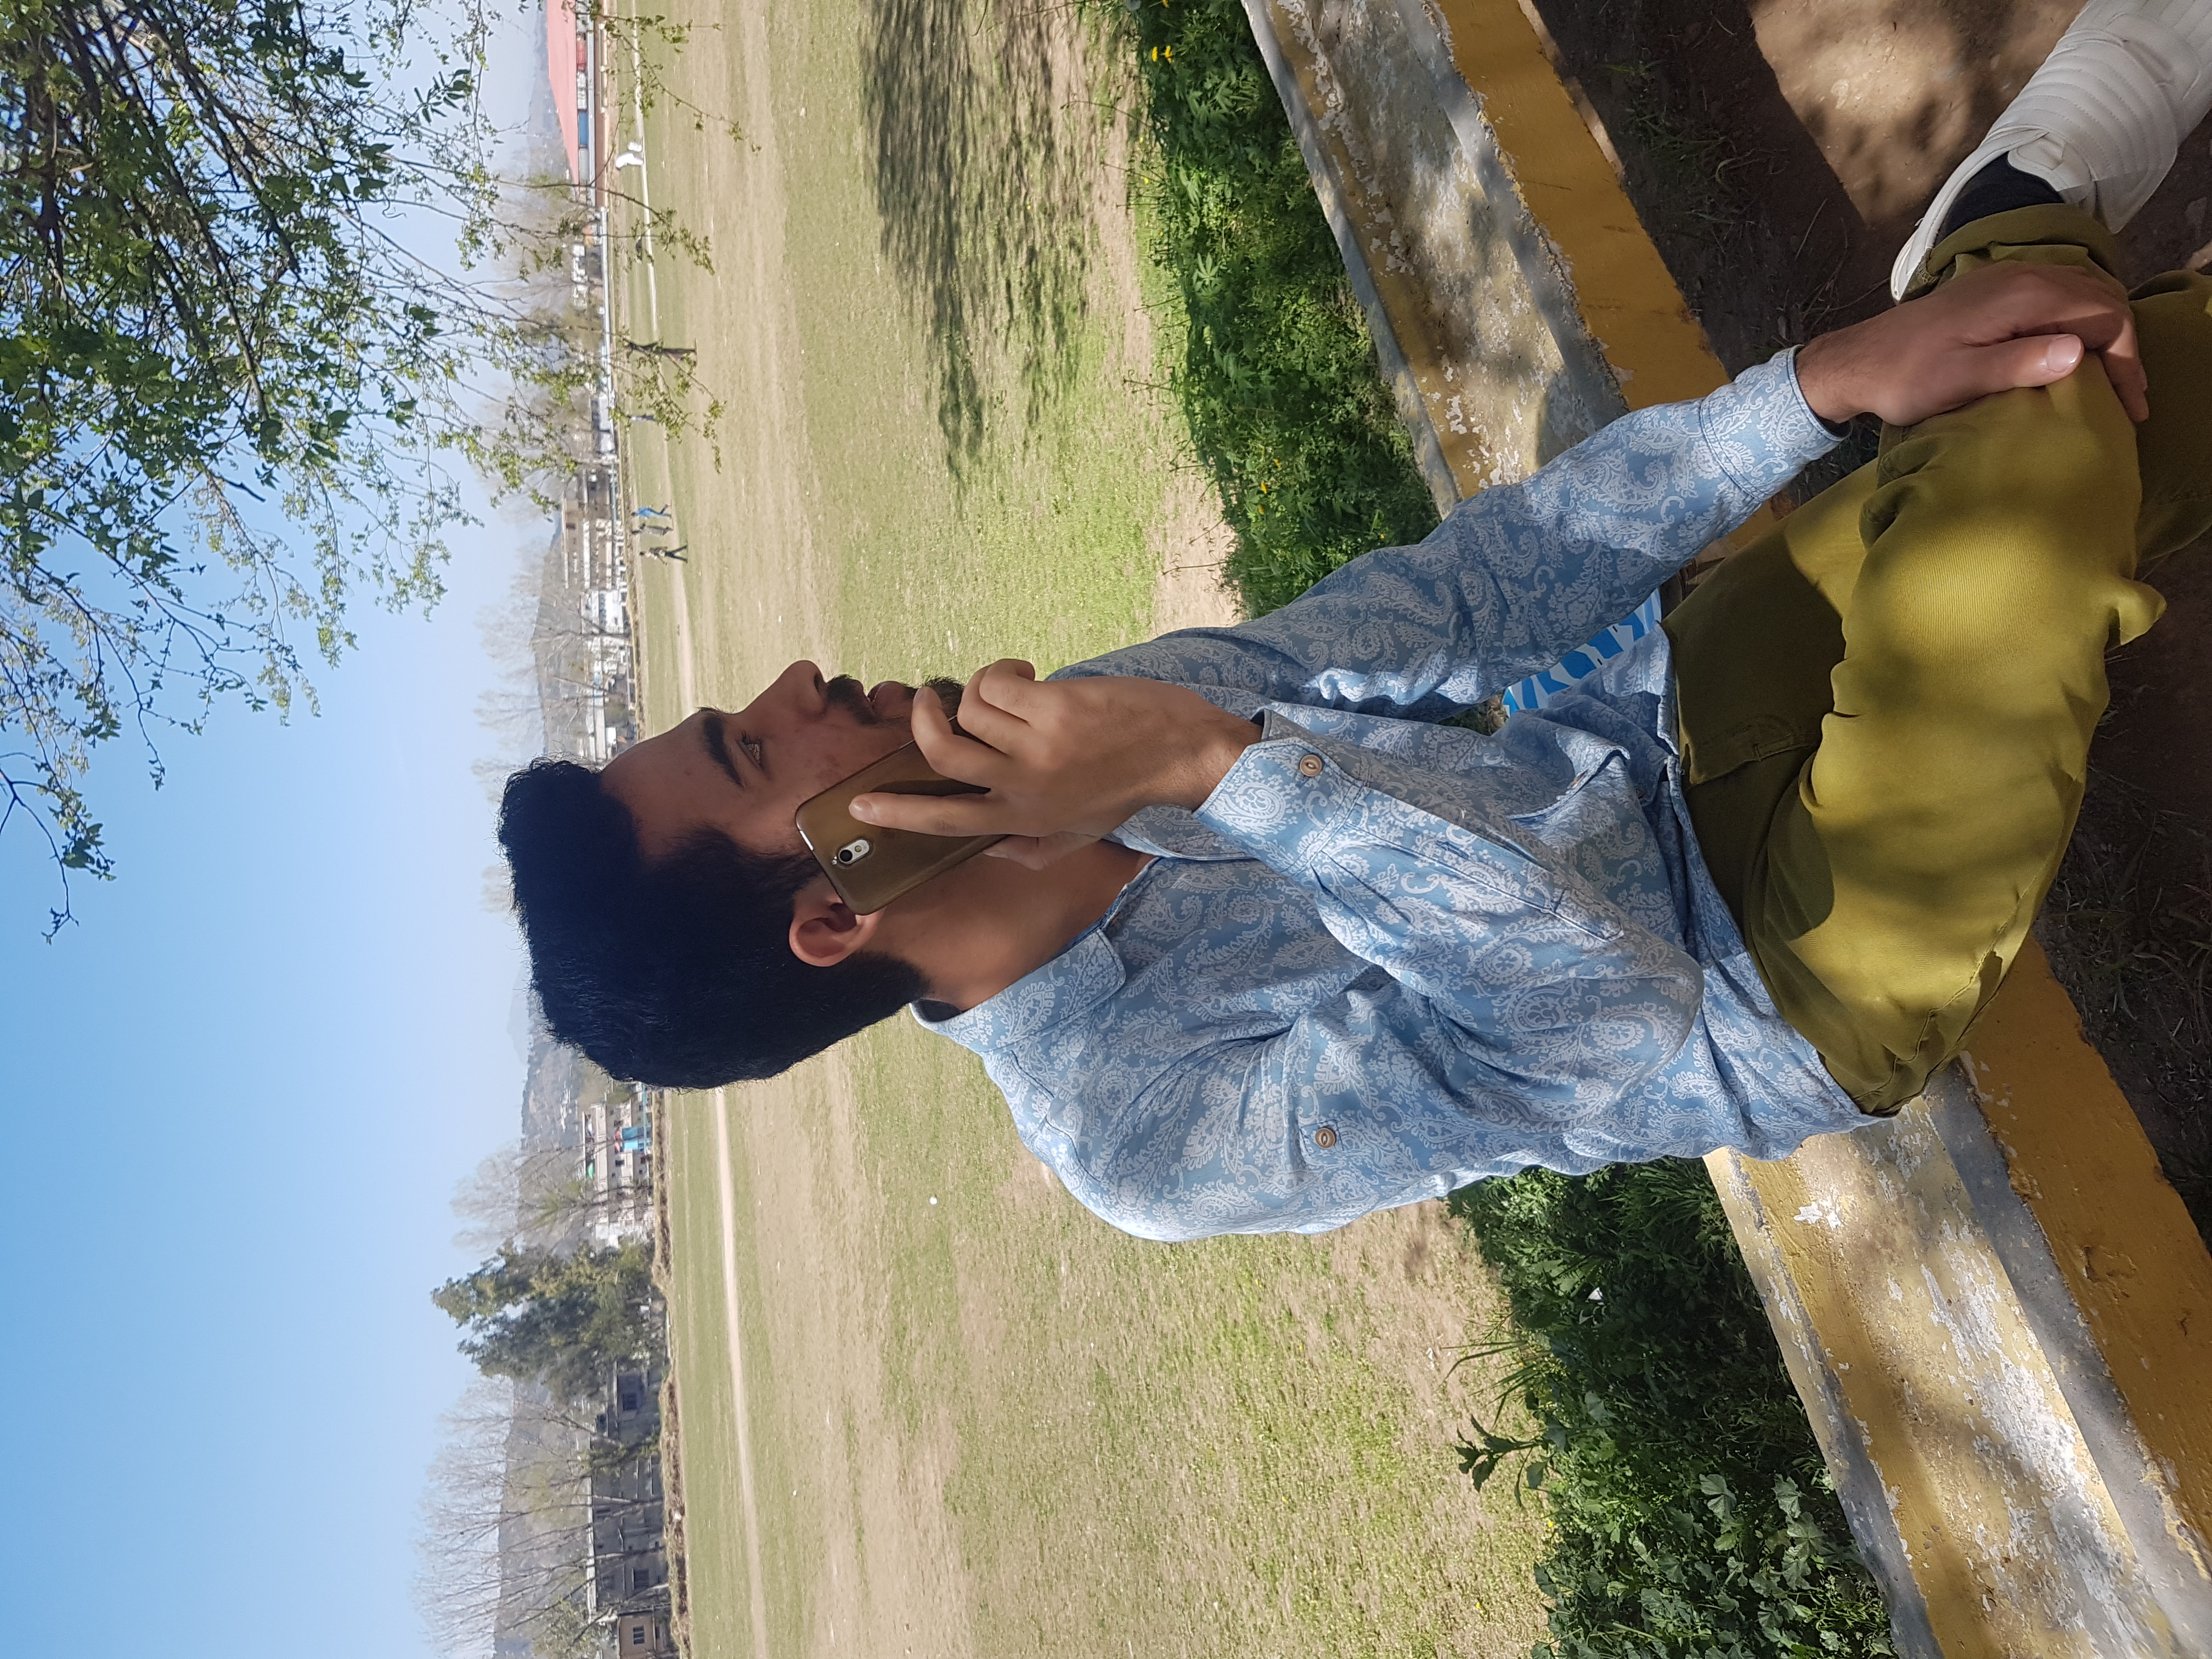face: (589, 661, 952, 850)
mobile: (807, 740, 977, 909)
